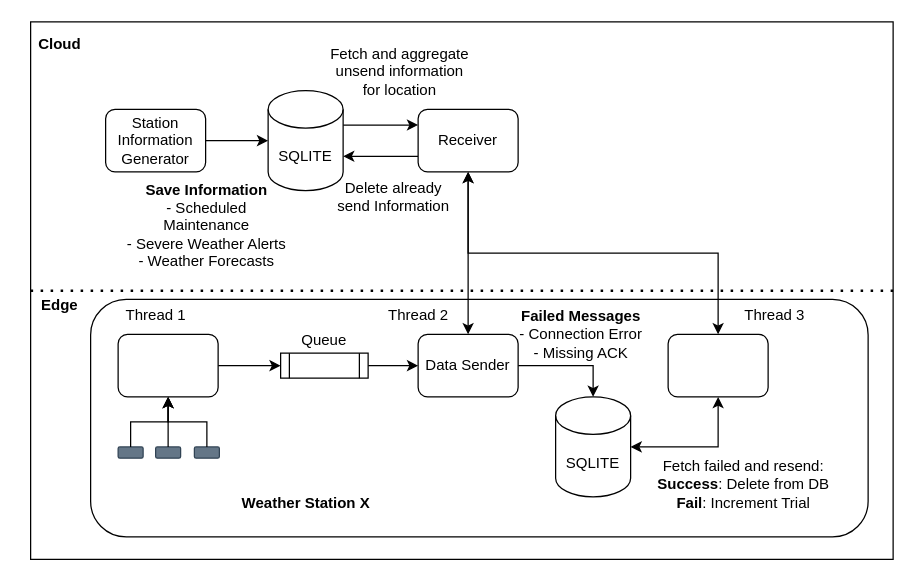
This 916x581 diagram has some shape labels left out. Here are the shapes that lost their labels. From the top down, the box of each, then its label:
(117, 333, 218, 397): Sensor Reader
(667, 333, 768, 397): Resender
